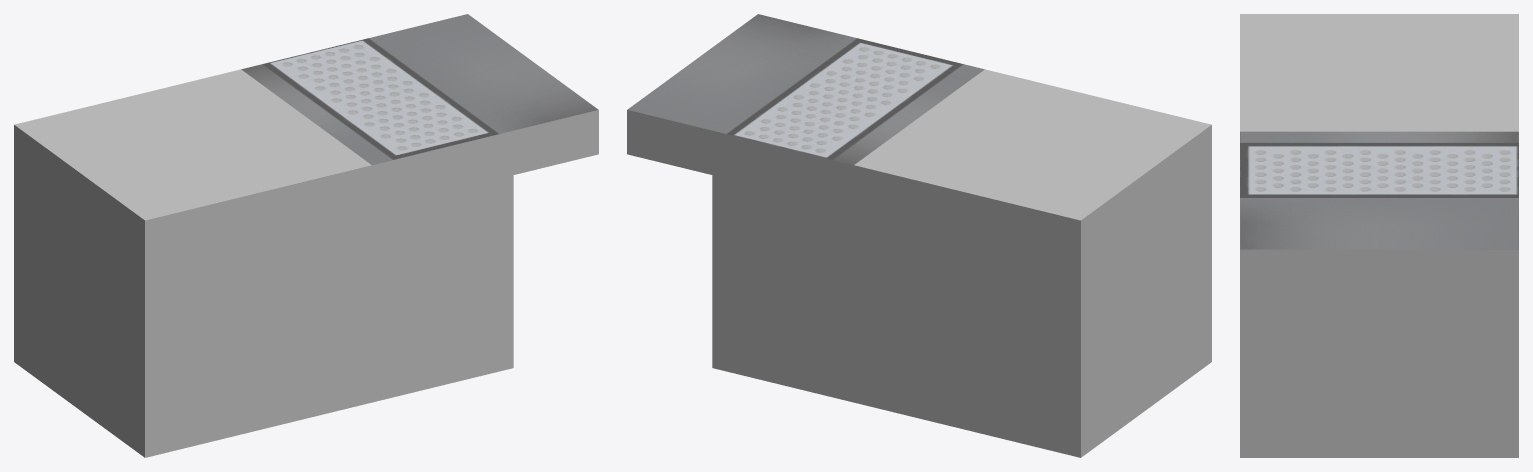
Rendered from sncf_platform_2.obj.
The picture shows the model from 3 angles, left to right: view 1: azimuth 30°, elevation 25°; view 2: azimuth 150°, elevation 25°; view 3: azimuth 270°, elevation 25°; orthographic projection. The views are drawn at different scales.
Parts seen in each view (by area): view 1: cube; view 2: cube; view 3: cube.
Boxes of the visible parts, box(x1,y1,x2,y2) form: cube: box(14, 14, 598, 457); cube: box(627, 14, 1211, 457); cube: box(1240, 14, 1518, 457).
Size of the model in its own units: 2 by 1 by 1.
